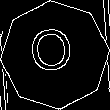O_S: (31, 28, 79, 82)
